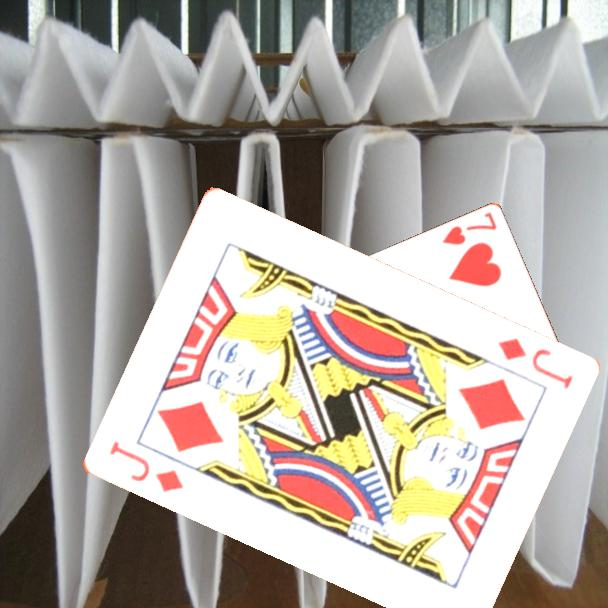d11: (494, 334, 576, 393), (105, 438, 186, 496)
h07: (438, 209, 500, 248)
